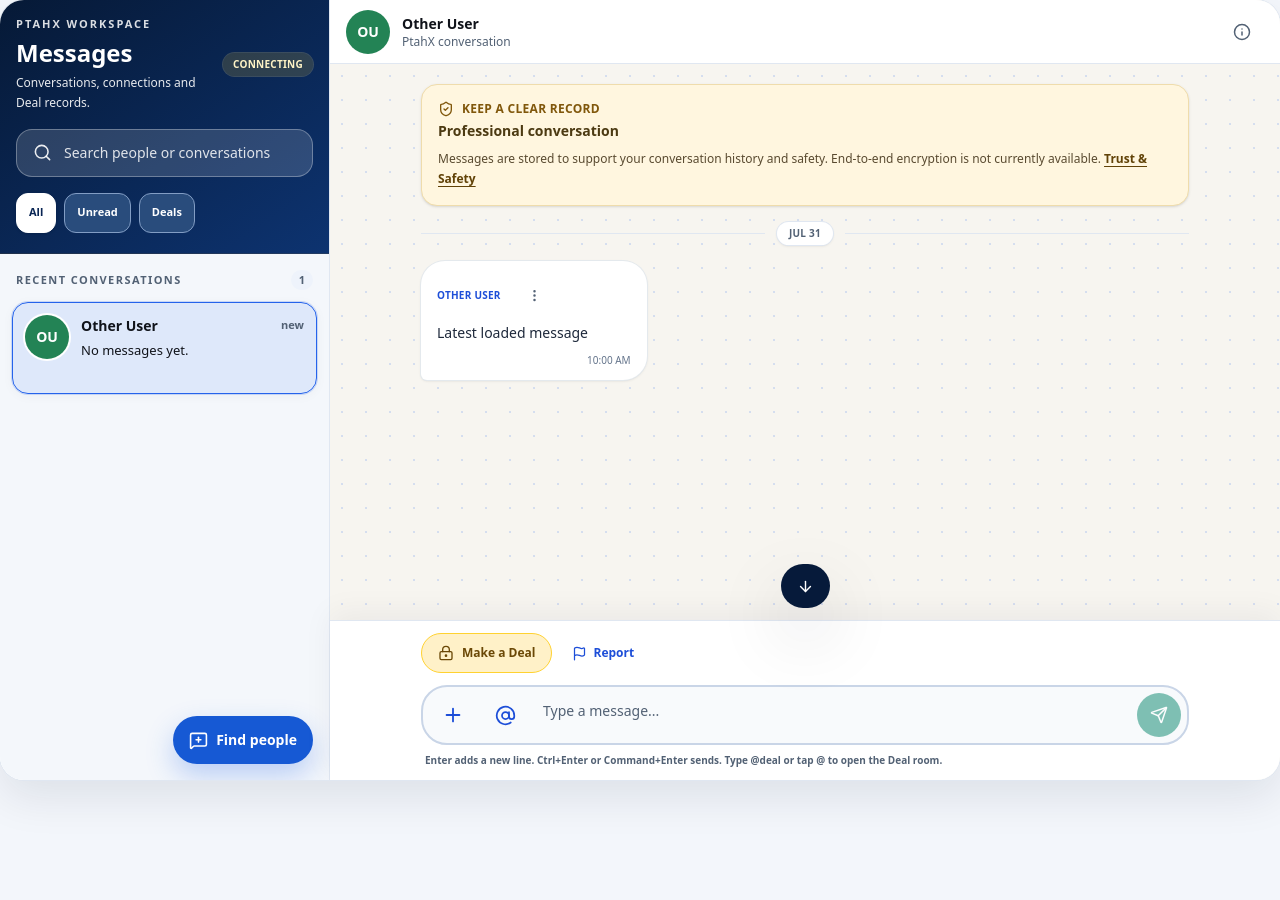
it: message workspace delivery › optimistic delivery › retains a failed message and resends it on retry
Type "Message that fails" into the text box labelled "message".
click(832, 715); type("Message that fails")  # box [535,693,1129,737]
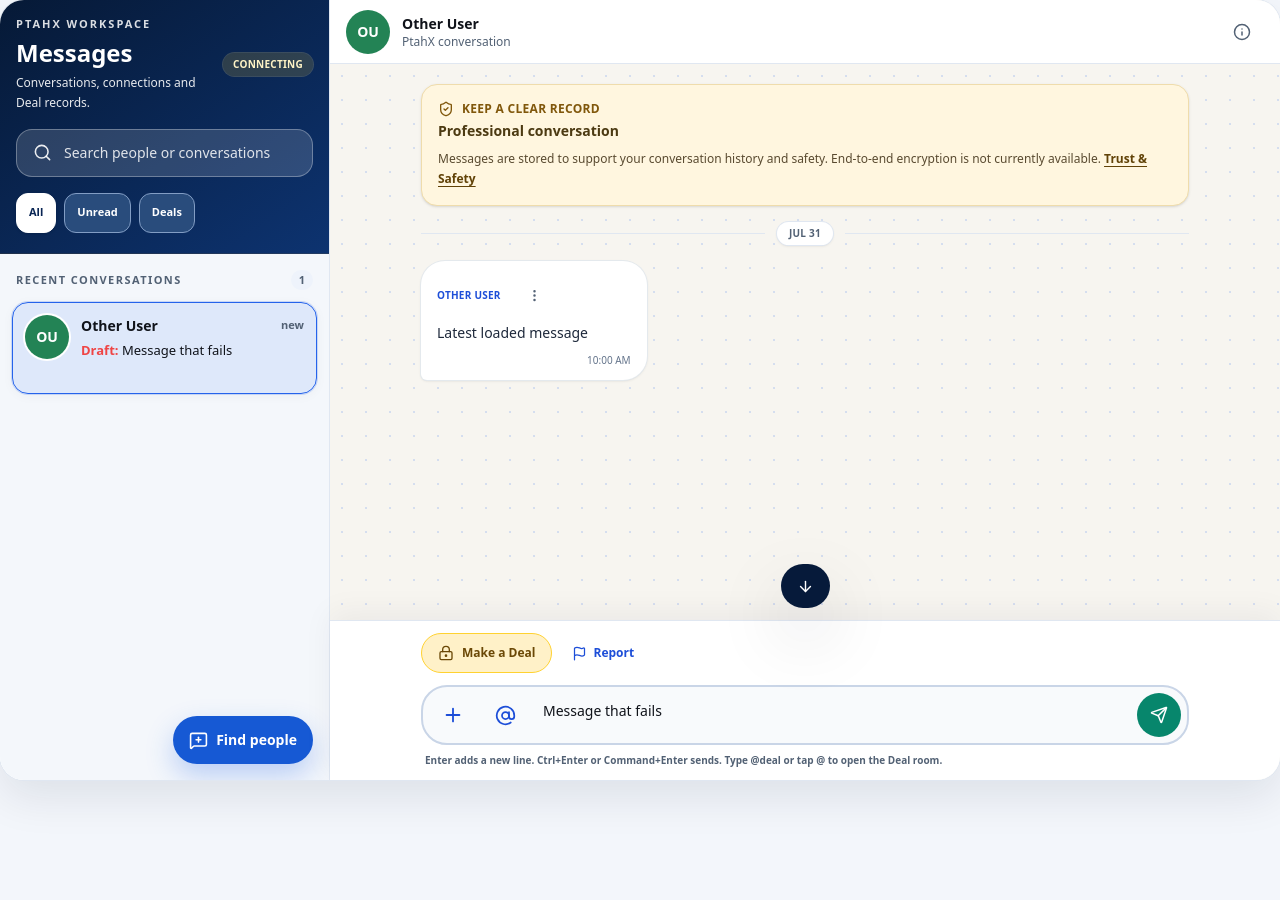
Submit the form named "Message", box [330,620,1279,780]
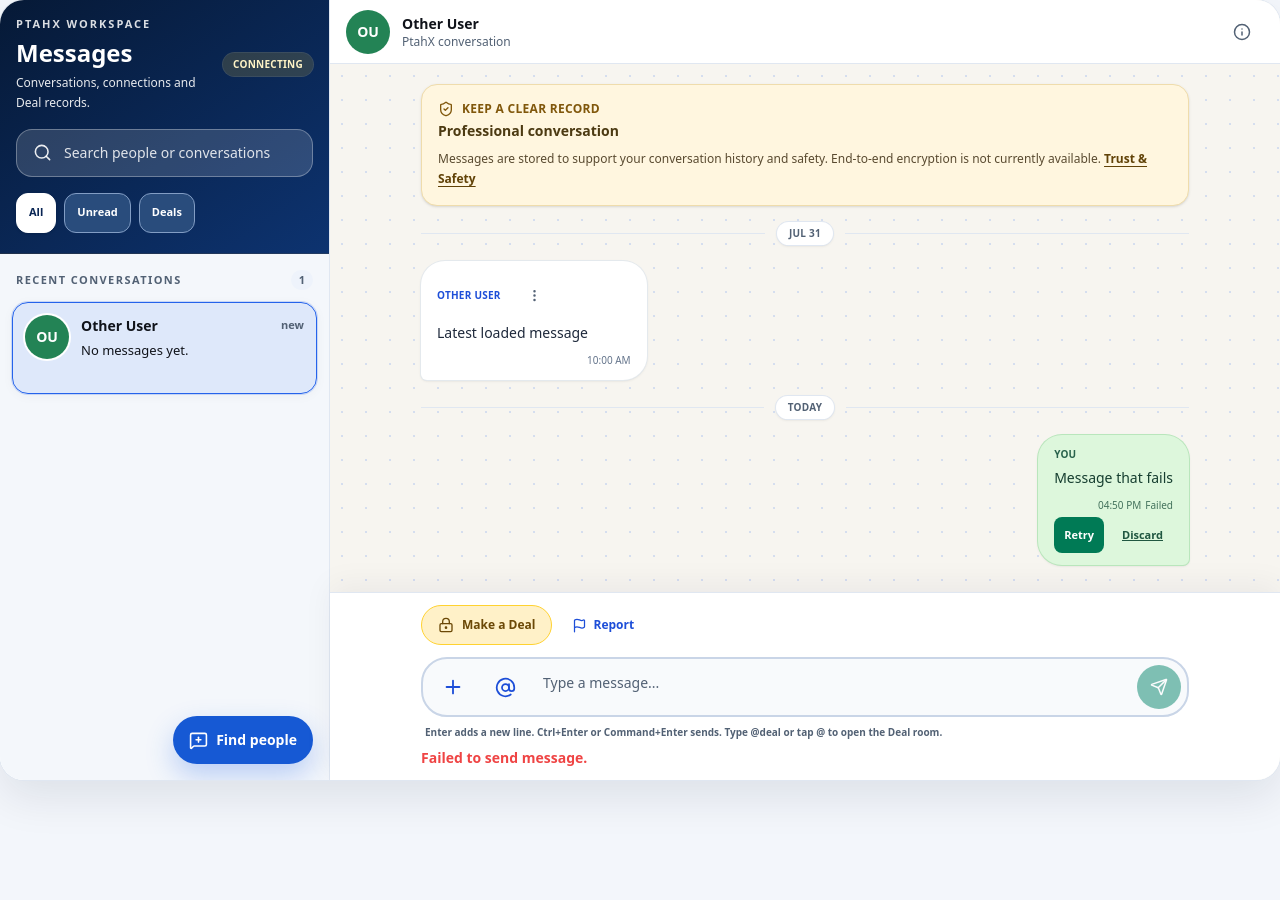
Result: the text "Message that fails" is shown at [1054,466,1173,490]
Result: the button "Retry" is shown
Click the button "Retry".
click(1079, 535)  # box [1054,517,1104,553]
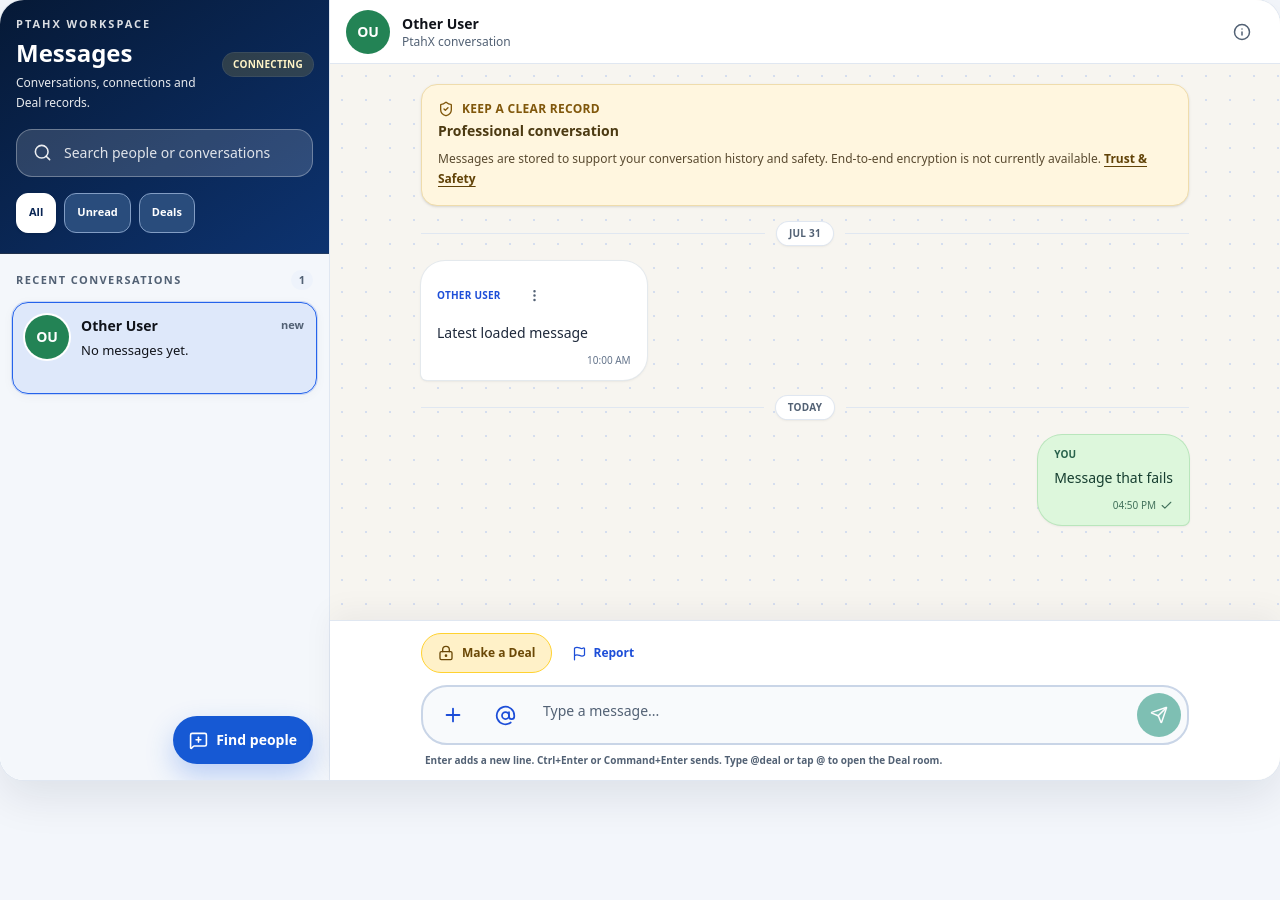
Result: the text "Message that fails" is shown once at [1054,466,1173,490]
Result: the button "Retry" is gone
